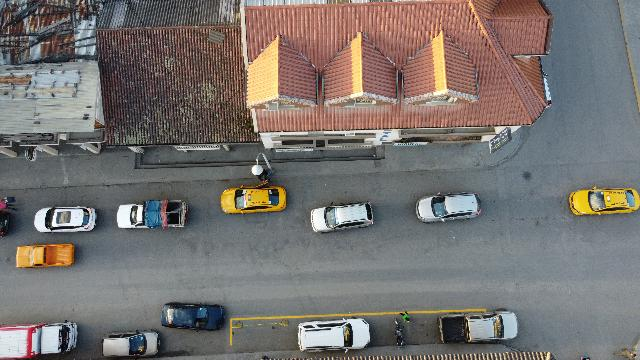Vehiculo: (438, 308, 518, 344), (298, 318, 370, 352), (311, 201, 374, 233), (568, 187, 640, 215), (116, 200, 188, 228), (415, 192, 481, 222), (222, 185, 286, 214), (162, 302, 224, 330), (101, 330, 160, 358), (34, 206, 96, 232), (0, 210, 10, 236)
